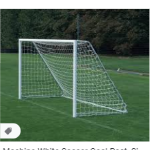goals: (18, 38, 128, 117)
